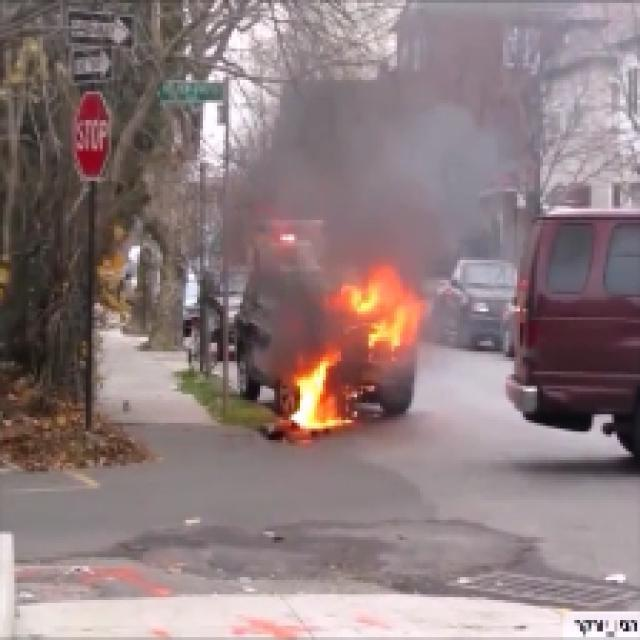Fire: (273, 254, 432, 446)
Smoke: (204, 52, 522, 392)
